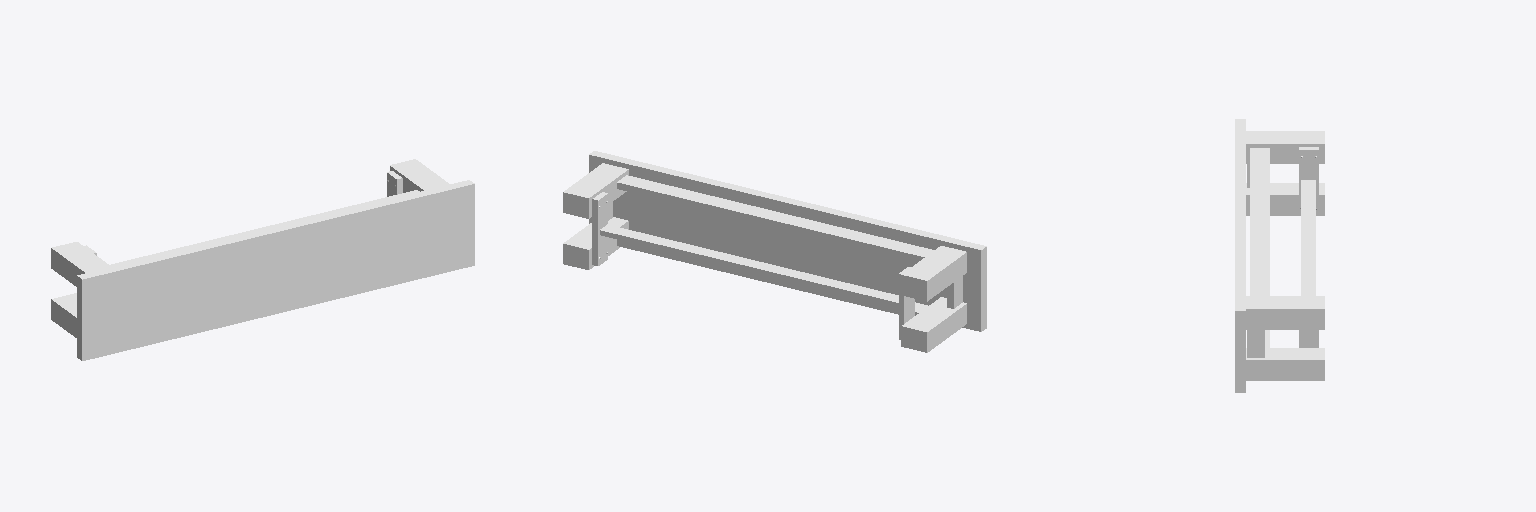
The model's file is FederalistMuseumBench01.obj.
3 renders of one model, left to right at view 1: azimuth 30°, elevation 25°; view 2: azimuth 150°, elevation 25°; view 3: azimuth 270°, elevation 25°, orthographic.
Parts seen in each view (by area): view 1: HFs_FederalistMuseumBench01:1; view 2: HFs_FederalistMuseumBench01:1; view 3: HFs_FederalistMuseumBench01:1.
Part boxes in pixels (x1,y1,x2,y2): HFs_FederalistMuseumBench01:1: (51, 159, 474, 360); HFs_FederalistMuseumBench01:1: (563, 151, 986, 352); HFs_FederalistMuseumBench01:1: (1235, 119, 1324, 392).
Bounding box in the file's own units: 160 × 31.81 × 32.07.